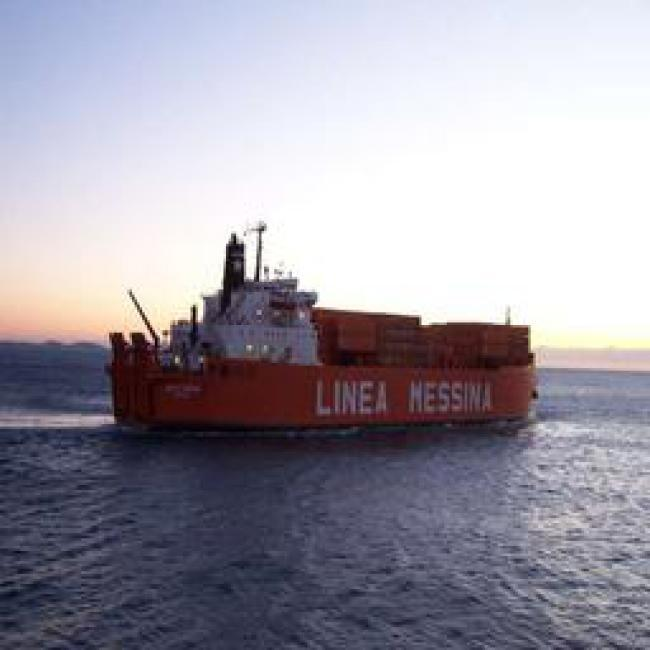Ship: (85, 228, 567, 434)
